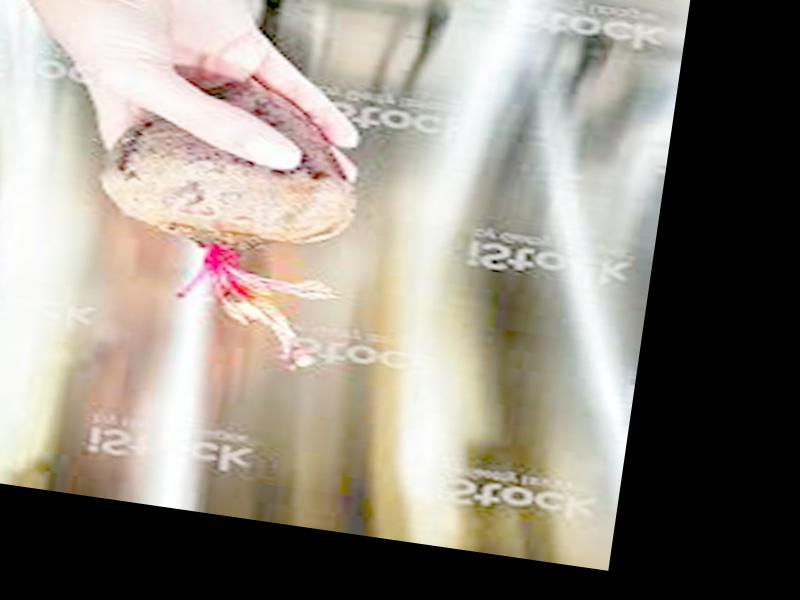Beet: (82, 63, 371, 368)
